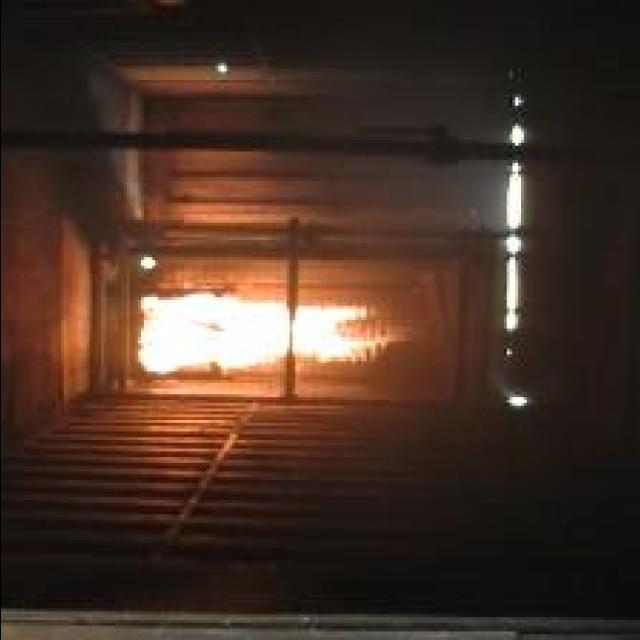Fire: (136, 294, 410, 374)
